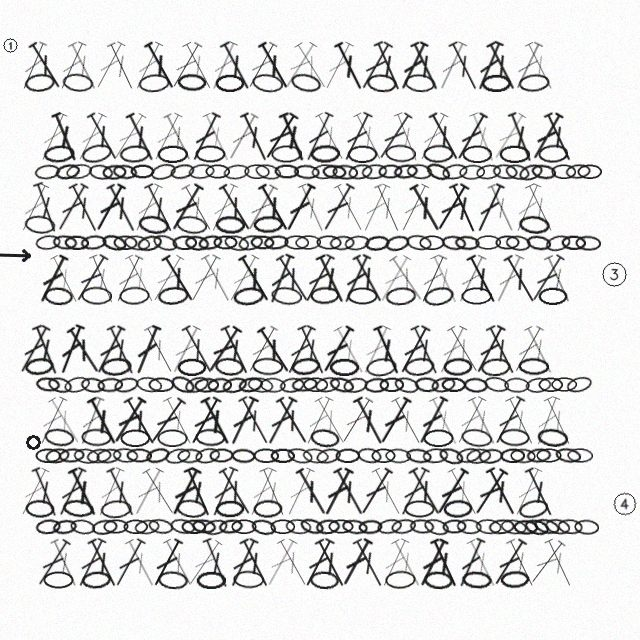chain: (80, 141, 114, 166), (289, 71, 323, 95), (422, 284, 456, 308), (517, 497, 550, 521), (137, 213, 170, 236), (251, 72, 284, 94), (175, 214, 208, 236), (232, 285, 265, 307), (270, 285, 303, 307), (365, 356, 398, 378), (460, 427, 493, 449), (309, 427, 341, 449), (403, 356, 436, 377), (536, 427, 569, 448), (175, 498, 208, 519), (24, 72, 56, 93), (62, 72, 94, 93), (24, 214, 56, 235), (518, 214, 550, 235), (157, 285, 189, 306), (100, 356, 132, 377), (290, 356, 322, 377), (43, 427, 75, 448), (62, 498, 94, 519), (24, 356, 55, 377), (214, 356, 245, 377), (424, 160, 452, 183), (169, 373, 197, 396), (138, 73, 170, 93), (404, 73, 436, 93), (518, 73, 550, 93), (43, 144, 75, 164), (119, 144, 151, 164), (385, 286, 417, 306), (100, 499, 132, 519), (157, 570, 189, 590), (422, 516, 451, 538), (366, 73, 397, 93), (43, 286, 74, 306), (480, 357, 511, 377), (81, 570, 112, 590), (309, 570, 340, 590), (423, 570, 454, 590), (461, 570, 492, 590), (517, 161, 545, 183), (151, 232, 179, 254), (437, 445, 465, 467), (149, 161, 178, 182), (565, 374, 594, 395), (532, 516, 561, 537), (385, 144, 416, 163), (423, 144, 454, 163), (81, 286, 112, 305), (119, 286, 150, 305), (252, 357, 283, 376), (518, 357, 549, 376), (81, 428, 112, 447), (195, 428, 226, 447), (499, 428, 530, 447), (233, 570, 264, 589), (385, 570, 416, 589), (100, 232, 128, 253), (63, 374, 91, 395), (183, 374, 211, 395), (144, 445, 172, 466), (298, 516, 326, 537), (177, 73, 207, 92), (310, 144, 340, 163), (538, 144, 568, 163), (215, 215, 245, 234), (253, 215, 283, 234), (310, 286, 340, 305), (443, 357, 473, 376), (25, 499, 55, 518), (253, 499, 283, 518), (443, 499, 473, 518), (500, 570, 530, 589), (254, 162, 282, 182), (544, 233, 572, 253), (46, 375, 74, 395), (164, 446, 192, 466), (286, 446, 314, 466), (157, 145, 188, 163), (195, 145, 226, 163), (271, 145, 302, 163), (347, 145, 378, 163), (499, 145, 530, 163), (347, 287, 378, 305), (461, 287, 492, 305), (157, 429, 188, 447), (423, 429, 454, 447), (404, 500, 435, 518), (43, 571, 74, 589), (215, 74, 245, 92), (481, 74, 511, 92), (462, 145, 492, 163), (504, 162, 531, 182), (136, 233, 163, 253), (223, 233, 250, 253), (384, 233, 411, 253), (538, 287, 568, 305), (177, 358, 207, 376), (329, 358, 359, 376), (113, 375, 140, 395), (221, 375, 248, 395), (328, 375, 355, 395), (393, 375, 420, 395), (120, 429, 150, 447), (315, 446, 342, 466), (215, 500, 245, 518), (202, 517, 229, 537), (250, 517, 277, 537), (523, 517, 550, 537), (196, 571, 226, 589), (65, 162, 93, 181), (441, 162, 469, 181), (405, 233, 433, 252), (135, 375, 163, 394), (554, 446, 582, 465), (54, 162, 81, 181), (169, 162, 196, 181), (347, 162, 374, 181), (197, 233, 224, 252), (237, 233, 264, 252), (237, 375, 264, 394), (314, 375, 341, 394), (430, 375, 457, 394), (483, 375, 510, 394), (44, 446, 71, 465), (194, 446, 221, 465), (356, 446, 383, 465), (455, 446, 482, 465), (147, 517, 174, 536), (169, 517, 196, 536), (376, 517, 403, 536), (390, 517, 417, 536), (544, 517, 571, 536), (123, 234, 151, 252), (95, 447, 123, 465), (34, 163, 61, 181), (223, 163, 250, 181), (475, 163, 502, 181), (530, 163, 557, 181), (525, 234, 552, 252), (247, 376, 274, 394), (342, 376, 369, 394), (525, 376, 552, 394), (73, 447, 100, 465), (302, 447, 329, 465), (405, 447, 432, 465), (465, 447, 492, 465), (69, 518, 96, 536), (91, 518, 118, 536), (341, 518, 368, 536), (500, 518, 527, 536), (88, 163, 114, 181), (112, 163, 138, 181), (184, 234, 210, 252), (344, 234, 370, 252), (364, 234, 390, 252), (441, 234, 467, 252), (505, 234, 531, 252), (80, 376, 106, 394), (279, 376, 305, 394), (86, 447, 112, 465), (478, 447, 504, 465), (52, 518, 78, 536), (134, 518, 160, 536), (188, 163, 215, 180), (311, 163, 338, 180), (361, 163, 388, 180), (406, 163, 433, 180), (80, 234, 107, 251), (291, 376, 318, 393), (58, 447, 85, 464), (112, 447, 139, 464), (422, 447, 449, 464), (285, 518, 312, 535), (475, 518, 502, 535), (488, 518, 515, 535), (393, 163, 419, 180), (492, 163, 518, 180), (565, 163, 591, 180), (35, 234, 61, 251), (52, 234, 78, 251), (263, 234, 289, 251), (35, 376, 61, 393), (414, 376, 440, 393), (526, 447, 552, 464), (35, 518, 61, 535), (191, 518, 217, 535), (218, 518, 244, 535), (315, 518, 341, 535), (409, 518, 435, 535), (456, 518, 482, 535), (557, 518, 583, 535), (293, 164, 320, 180), (332, 164, 358, 180), (459, 164, 485, 180), (329, 235, 355, 251), (454, 235, 480, 251), (575, 235, 601, 251), (97, 377, 123, 393), (260, 377, 286, 393), (463, 377, 489, 393), (504, 377, 530, 393), (177, 448, 203, 464), (385, 448, 411, 464), (510, 448, 536, 464), (102, 164, 127, 180), (322, 164, 347, 180), (194, 377, 219, 393), (207, 377, 232, 393), (364, 377, 389, 393), (231, 448, 256, 464), (358, 519, 383, 535), (513, 519, 538, 535), (574, 519, 599, 535), (244, 164, 270, 179), (295, 235, 321, 250), (316, 235, 342, 250), (419, 235, 445, 250), (475, 235, 501, 250), (148, 377, 174, 392), (551, 377, 577, 392), (35, 448, 61, 463), (126, 448, 152, 463), (253, 448, 279, 463), (536, 448, 562, 463), (567, 448, 593, 463), (103, 519, 129, 534), (231, 519, 257, 534), (328, 519, 354, 534), (130, 164, 155, 179), (205, 164, 230, 179), (274, 164, 299, 179), (378, 164, 403, 179), (551, 164, 576, 179), (577, 164, 602, 179), (64, 235, 89, 250), (113, 235, 138, 250), (172, 235, 197, 250), (213, 235, 238, 250), (250, 235, 275, 250), (284, 235, 309, 250), (495, 235, 520, 250), (561, 235, 586, 250), (303, 377, 328, 392), (379, 377, 404, 392), (441, 377, 466, 392), (538, 377, 563, 392), (209, 448, 234, 463), (270, 448, 295, 463), (335, 448, 360, 463), (371, 448, 396, 463), (500, 448, 525, 463), (123, 519, 148, 534), (181, 519, 206, 534), (270, 519, 295, 534), (442, 519, 467, 534)
double: (385, 252, 429, 305), (145, 395, 189, 447), (259, 110, 302, 163), (373, 110, 416, 163), (202, 323, 245, 376), (525, 537, 569, 588), (183, 537, 226, 589), (279, 39, 321, 92), (108, 110, 150, 163), (488, 110, 530, 163), (165, 181, 207, 234), (431, 181, 473, 234), (70, 252, 112, 305), (146, 252, 188, 305), (272, 252, 314, 305), (526, 252, 568, 305), (44, 394, 86, 447), (108, 394, 150, 447), (488, 536, 530, 589), (355, 39, 396, 93), (222, 110, 263, 164), (177, 181, 218, 235), (241, 181, 282, 235), (405, 181, 446, 235), (374, 252, 415, 306), (500, 252, 541, 306), (120, 394, 161, 448), (63, 324, 105, 376), (253, 324, 295, 376), (469, 466, 511, 518), (32, 537, 74, 589), (25, 39, 66, 92), (291, 39, 332, 92), (215, 181, 256, 234), (317, 181, 358, 234), (158, 252, 199, 305), (234, 252, 275, 305), (317, 323, 358, 376), (443, 323, 484, 376), (272, 394, 313, 447), (336, 394, 377, 447), (374, 394, 415, 447), (139, 465, 180, 518), (215, 465, 256, 518), (355, 465, 396, 518), (405, 465, 446, 518), (431, 465, 472, 518), (178, 39, 218, 93), (216, 39, 256, 93), (330, 323, 370, 377), (394, 323, 434, 377), (83, 394, 123, 448), (185, 394, 225, 448), (261, 394, 301, 448), (349, 394, 389, 448), (387, 394, 427, 448), (128, 465, 168, 519), (109, 536, 149, 590), (121, 536, 161, 590), (147, 536, 187, 590), (261, 536, 301, 590), (311, 536, 351, 590), (349, 536, 389, 590), (387, 536, 427, 590), (140, 39, 180, 92), (166, 39, 206, 92), (254, 39, 294, 92), (83, 110, 123, 163), (451, 110, 491, 163), (527, 110, 567, 163), (52, 181, 92, 234), (254, 181, 294, 234), (223, 252, 263, 305), (14, 323, 54, 376), (178, 323, 218, 376), (242, 323, 282, 376), (508, 323, 548, 376), (311, 394, 351, 447), (292, 465, 332, 518), (273, 536, 313, 589), (64, 39, 103, 93), (330, 39, 369, 93), (159, 110, 198, 164), (140, 181, 179, 235), (33, 252, 72, 306), (463, 252, 502, 306), (166, 323, 205, 377), (482, 323, 521, 377), (520, 323, 559, 377), (159, 394, 198, 448), (197, 394, 236, 448), (425, 394, 464, 448), (501, 394, 540, 448), (64, 465, 103, 519), (166, 465, 205, 519), (318, 465, 357, 519), (299, 536, 338, 590), (463, 536, 502, 590), (90, 39, 129, 92), (242, 39, 281, 92), (311, 110, 350, 163), (349, 110, 388, 163), (425, 110, 464, 163), (90, 181, 129, 234), (280, 181, 319, 234), (330, 181, 369, 234), (121, 252, 160, 305), (185, 252, 224, 305), (197, 252, 236, 305), (299, 252, 338, 305), (349, 252, 388, 305), (140, 323, 179, 376), (470, 323, 509, 376), (235, 394, 274, 447), (413, 394, 452, 447), (451, 394, 490, 447), (489, 394, 528, 447), (330, 465, 369, 518), (368, 465, 407, 518), (444, 465, 483, 518), (482, 465, 521, 518), (159, 536, 198, 589), (337, 536, 376, 589), (129, 39, 167, 93), (319, 39, 357, 93), (433, 39, 471, 93), (445, 39, 483, 93), (483, 39, 521, 93), (509, 39, 547, 93), (521, 39, 559, 93), (72, 110, 110, 164), (122, 110, 160, 164), (148, 110, 186, 164), (186, 110, 224, 164), (198, 110, 236, 164), (338, 110, 376, 164), (414, 110, 452, 164), (15, 181, 53, 235), (65, 181, 103, 235), (103, 181, 141, 235), (395, 181, 433, 235), (521, 181, 559, 235), (46, 252, 84, 306), (312, 252, 350, 306), (426, 252, 464, 306), (452, 252, 490, 306), (490, 252, 528, 306), (91, 323, 129, 377), (281, 323, 319, 377), (357, 323, 395, 377), (433, 323, 471, 377), (224, 394, 262, 448), (464, 394, 502, 448), (15, 465, 53, 519), (395, 465, 433, 519), (521, 465, 559, 519), (72, 536, 110, 590), (84, 536, 122, 590), (224, 536, 262, 590), (236, 536, 274, 590), (414, 536, 452, 590), (502, 536, 540, 590), (540, 536, 578, 590), (103, 39, 140, 93), (205, 39, 242, 93), (395, 39, 432, 93), (407, 39, 444, 93), (236, 110, 273, 164), (300, 110, 337, 164), (540, 110, 577, 164), (129, 181, 166, 235), (205, 181, 242, 235), (357, 181, 394, 235), (445, 181, 482, 235), (471, 181, 508, 235), (483, 181, 520, 235), (110, 252, 147, 306), (338, 252, 375, 306), (414, 252, 451, 306), (540, 252, 577, 306), (103, 323, 140, 377), (217, 323, 254, 377), (369, 323, 406, 377), (407, 323, 444, 377), (34, 394, 71, 448), (300, 394, 337, 448), (540, 394, 577, 448), (53, 465, 90, 519), (103, 465, 140, 519), (281, 465, 318, 519), (509, 465, 546, 519), (46, 536, 83, 590), (376, 536, 413, 590), (426, 536, 463, 590), (54, 39, 90, 93), (370, 39, 406, 93), (35, 110, 71, 164), (47, 110, 83, 164), (275, 110, 311, 164), (465, 110, 501, 164), (294, 181, 330, 235), (370, 181, 406, 235), (28, 323, 64, 377), (294, 323, 330, 377), (92, 465, 128, 519), (180, 465, 216, 519), (206, 465, 242, 519), (244, 465, 280, 519), (453, 536, 489, 590), (54, 322, 89, 377), (16, 39, 51, 93), (472, 39, 507, 93), (510, 181, 545, 235), (85, 252, 120, 306), (130, 323, 165, 377), (28, 465, 63, 519), (256, 465, 291, 519), (199, 536, 234, 590), (29, 180, 63, 235), (390, 110, 424, 164), (504, 110, 538, 164), (264, 252, 298, 306), (74, 394, 108, 448), (530, 394, 564, 448)
noise: (600, 260, 628, 288), (611, 490, 639, 518), (0, 248, 33, 262), (1, 36, 20, 55), (24, 433, 42, 451)
